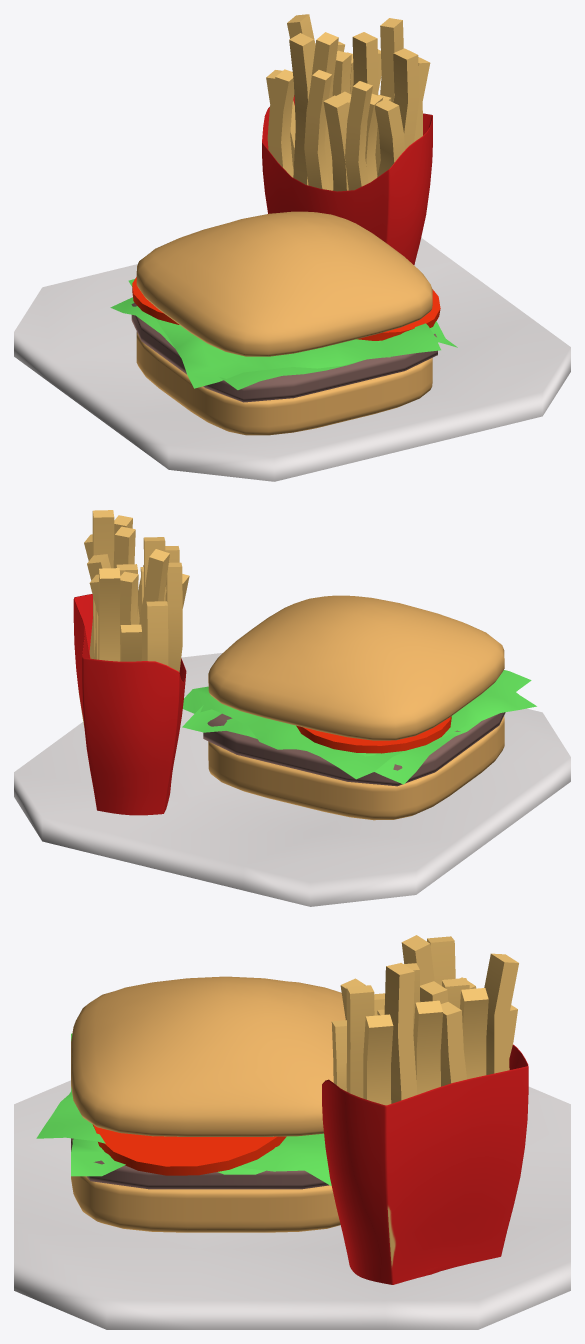
File: friesHamburger_plate.fbx
3 views of the same model, one above another, from view 1: azimuth 30°, elevation 25°; view 2: azimuth 150°, elevation 25°; view 3: azimuth 270°, elevation 25° (orthographic). The views are drawn at different scales.
Visible parts, largest first — view 1: hamburgerFries_plate:Hamburger:pCube4, hamburgerFries_plate:pCube4, hamburgerFries_plate:pCube29; view 2: hamburgerFries_plate:Hamburger:pCube4, hamburgerFries_plate:pCube4, hamburgerFries_plate:pCube29; view 3: hamburgerFries_plate:Hamburger:pCube4, hamburgerFries_plate:pCube4, hamburgerFries_plate:pCube29.
Part boxes in pixels (<box>): hamburgerFries_plate:Hamburger:pCube4: <box>110,211,457,435</box>; hamburgerFries_plate:pCube4: <box>14,238,570,481</box>; hamburgerFries_plate:pCube29: <box>262,14,432,264</box>; hamburgerFries_plate:Hamburger:pCube4: <box>182,595,536,820</box>; hamburgerFries_plate:pCube4: <box>14,653,570,906</box>; hamburgerFries_plate:pCube29: <box>73,510,189,815</box>; hamburgerFries_plate:Hamburger:pCube4: <box>36,976,345,1232</box>; hamburgerFries_plate:pCube4: <box>14,1080,570,1329</box>; hamburgerFries_plate:pCube29: <box>322,935,528,1284</box>.
Bounding box in the file's own units: 0.4064 × 0.2739 × 0.4064.
Materials: 3 (2 with a texture image).
